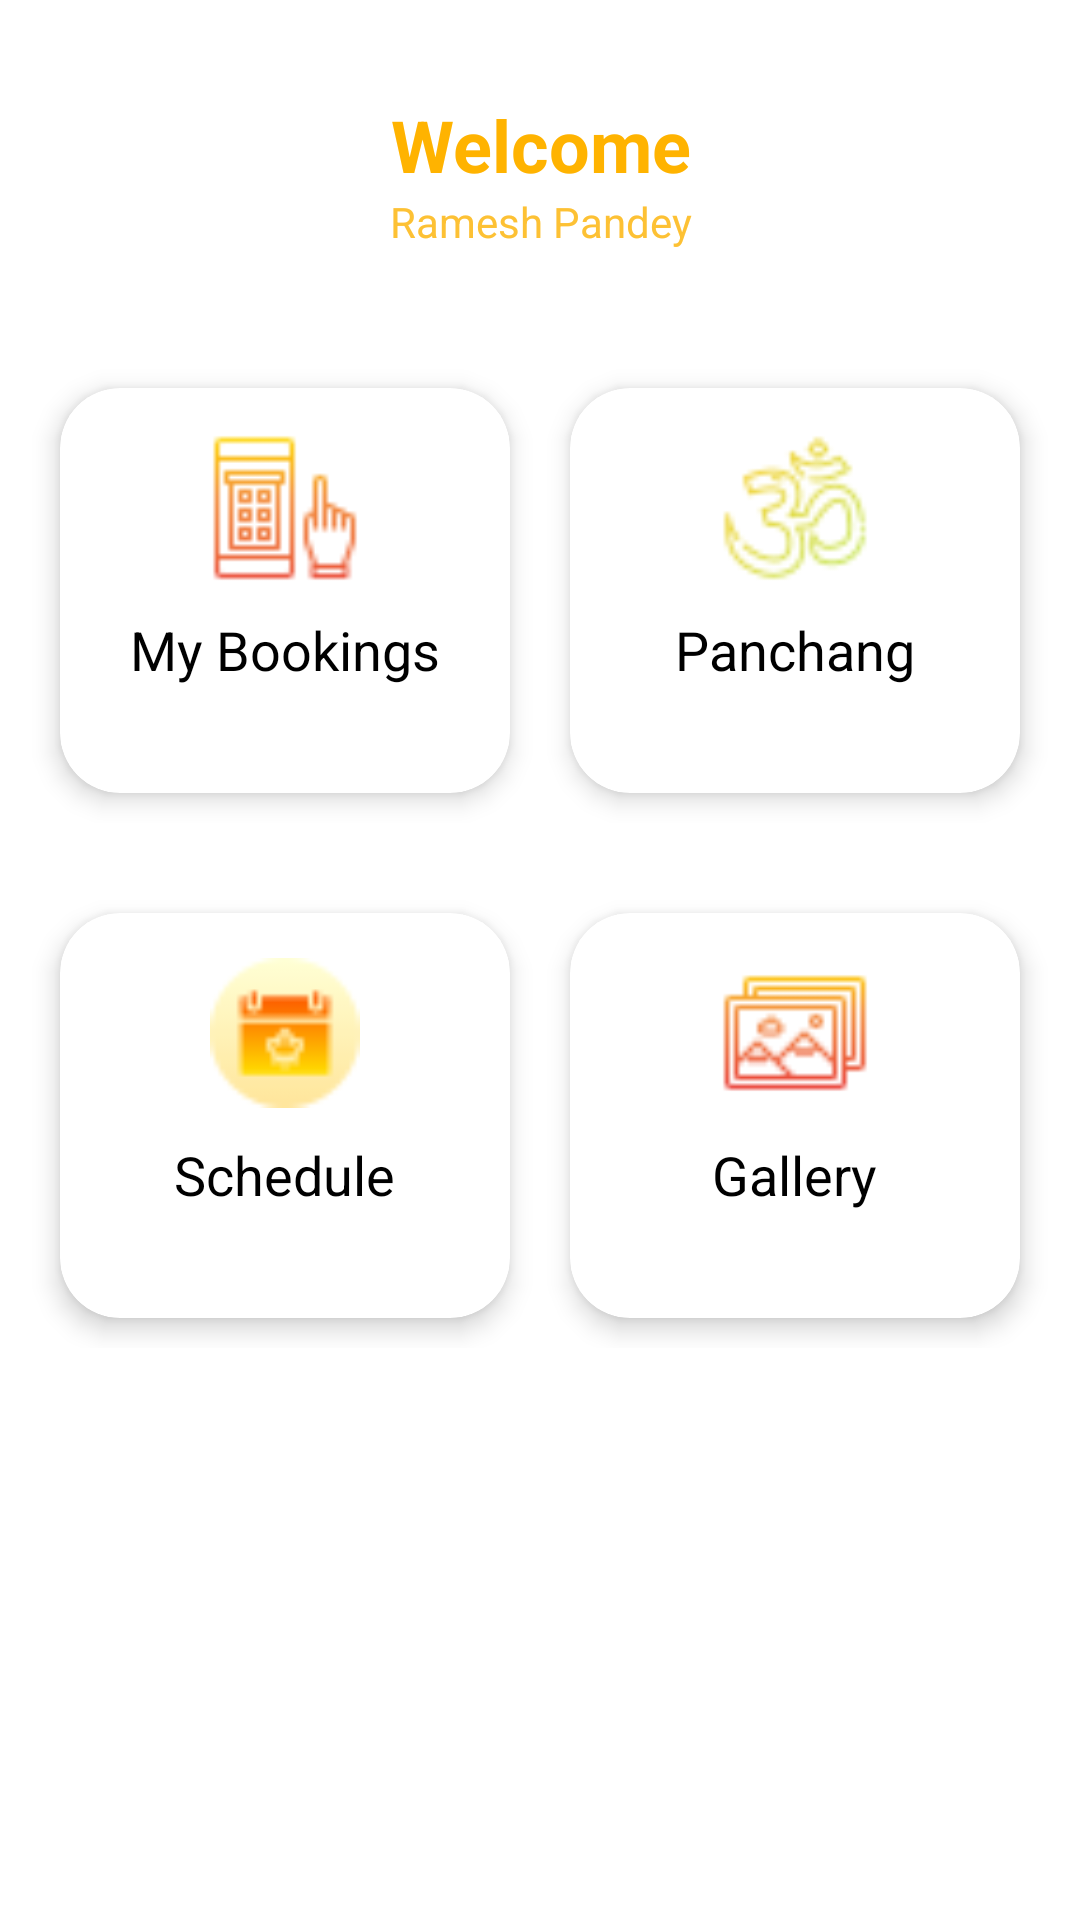

Screen size 1080 × 1920. Icon name, then its box in pixels as box(x1, y1, x2, y2):
thanksgiving: box(210, 958, 360, 1108)
